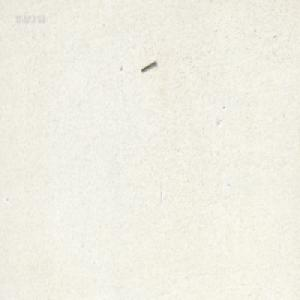Bolt: (140, 59, 156, 71)
